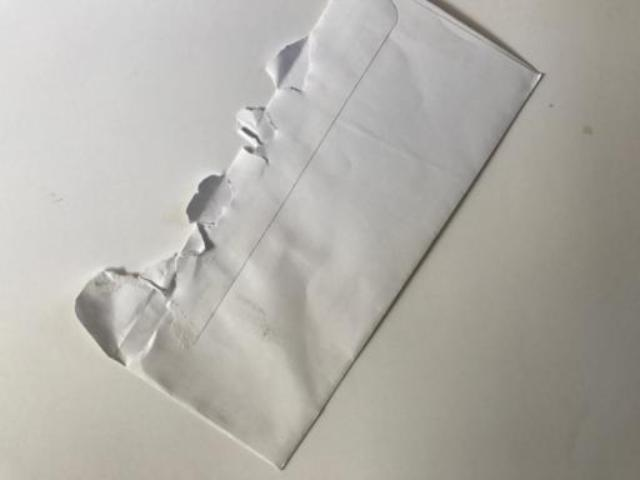cardboard paper: (74, 0, 539, 465)
